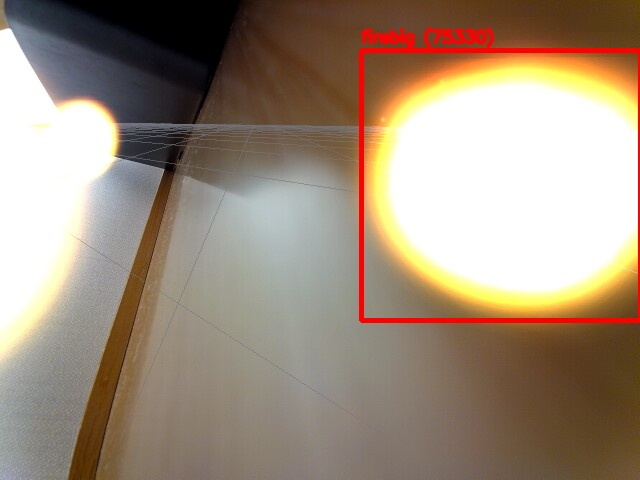firebig: (361, 50, 640, 320)
